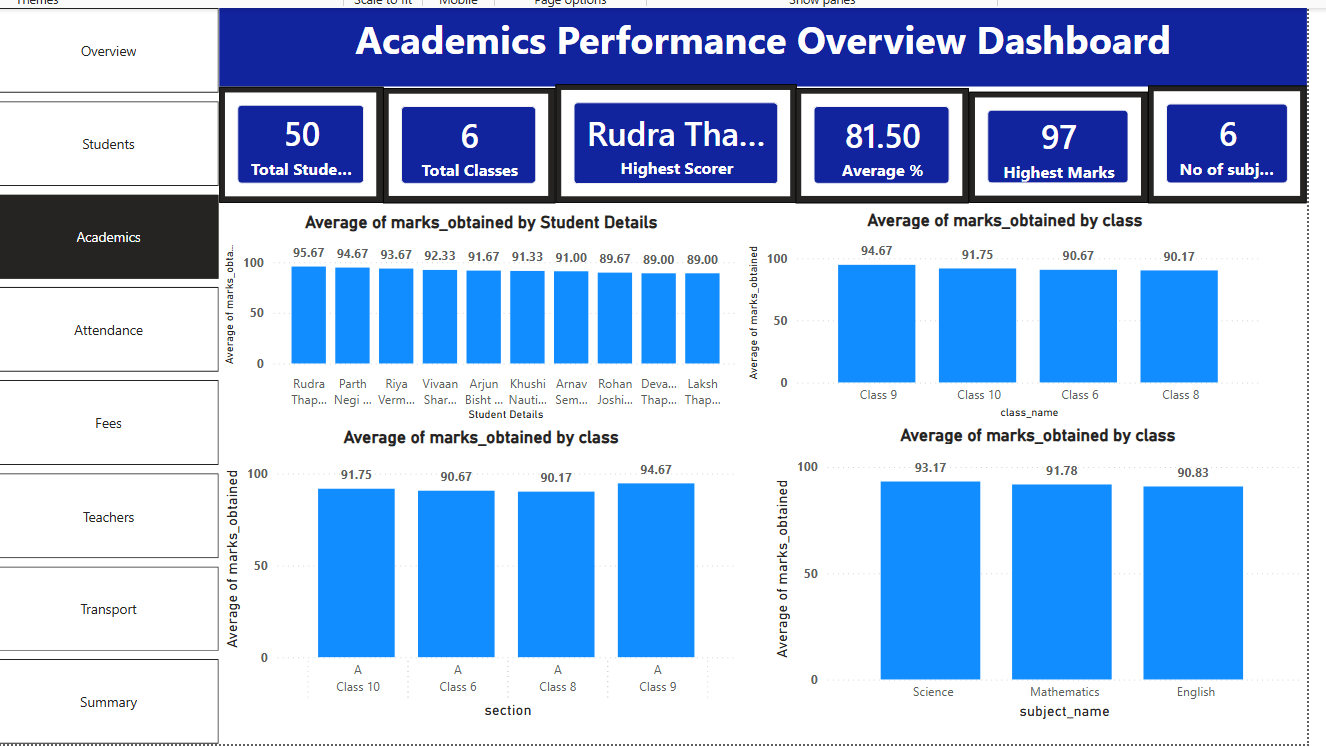

Layout of this report page (visuals, bound fields, positions):
{"tool":"powerbi","page":{"name":"Academics","canvas":[1280,720],"ordinal":2},"visuals":[{"type":"pageNavigator","box":[0,0,216.4,720.2],"z":0},{"type":"textbox","box":[216.1,0,1063.9,77],"z":1000},{"type":"cardVisual","fields":{"Data":["CountNonNull(students.student_id)"]},"box":[216.8,76.8,160.5,113.9],"z":2000},{"type":"cardVisual","fields":{"Data":["CountNonNull(teachers.teacher_id)"]},"box":[376.6,78.3,168.8,112.5],"z":3000},{"type":"cardVisual","fields":{"Data":["attendance.Highest Scorer"]},"box":[545.4,74.6,236,116.2],"z":4000},{"type":"cardVisual","fields":{"Data":["marks.Average Percentage"]},"box":[780.2,78.3,170,112.5],"z":5000},{"type":"columnChart","fields":{"Y":["Avg(marks.marks_obtained)"],"Category":["students.Student Details"]},"box":[216.4,199.7,512.4,209.4],"z":6000},{"type":"cardVisual","fields":{"Data":["marks.Highest Marks"]},"box":[950.1,81.9,174.9,108.8],"z":7000},{"type":"columnChart","title":"Average of marks_obtained by class","fields":{"Y":["Avg(marks.marks_obtained)"],"Category":["classes.class_name"]},"box":[728.8,196.9,512.4,209.4],"z":8000},{"type":"columnChart","title":"Average of marks_obtained by class","fields":{"Y":["Avg(marks.marks_obtained)"],"Category":["classes.class_name","classes.section"]},"box":[216.4,409.1,512.4,290.4],"z":9000},{"type":"columnChart","title":"Average of marks_obtained by class","fields":{"Y":["Avg(marks.marks_obtained)"],"Category":["subjects.subject_name"]},"box":[754.7,407.5,525.6,293.7],"z":10000},{"type":"cardVisual","fields":{"Data":["Count(subjects.subject_name)"]},"box":[1125,75.8,155.3,114.9],"z":11000}]}

Visuals, with their boxes on the page's 1280x720 design canvas (x1, y1, x2, y2). These are canvas units, not pixel positions in the 1326x747 screenshot, which may show the page scaled, cropped or inside an application window:
pageNavigator: BBox(0, 0, 216, 720)
textbox: BBox(216, 0, 1280, 77)
cardVisual - CountNonNull(students.student_id): BBox(217, 77, 377, 191)
cardVisual - CountNonNull(teachers.teacher_id): BBox(377, 78, 545, 191)
cardVisual - attendance.Highest Scorer: BBox(545, 75, 781, 191)
cardVisual - marks.Average Percentage: BBox(780, 78, 950, 191)
columnChart - Avg(marks.marks_obtained) x students.Student Details: BBox(216, 200, 729, 409)
cardVisual - marks.Highest Marks: BBox(950, 82, 1125, 191)
"Average of marks_obtained by class" columnChart: BBox(729, 197, 1241, 406)
"Average of marks_obtained by class" columnChart: BBox(216, 409, 729, 700)
"Average of marks_obtained by class" columnChart: BBox(755, 408, 1280, 701)
cardVisual - Count(subjects.subject_name): BBox(1125, 76, 1280, 191)
